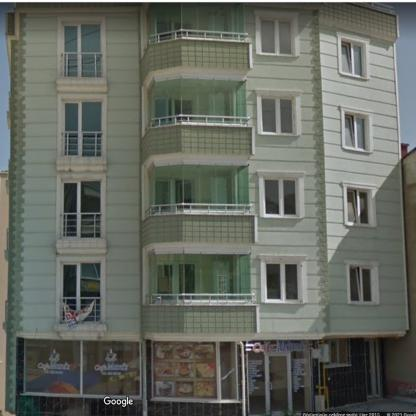door: (264, 353, 292, 412)
window: (23, 340, 141, 397), (145, 73, 246, 132), (146, 160, 250, 215), (147, 250, 251, 300), (245, 340, 312, 414), (145, 4, 245, 50), (60, 98, 103, 160), (60, 177, 102, 239), (60, 261, 102, 323), (61, 22, 104, 77), (264, 258, 302, 301), (260, 93, 298, 135), (263, 175, 300, 216), (259, 16, 296, 54), (348, 262, 379, 302), (346, 186, 375, 225), (219, 342, 238, 400), (340, 38, 366, 78), (343, 110, 367, 150), (330, 339, 350, 367)
